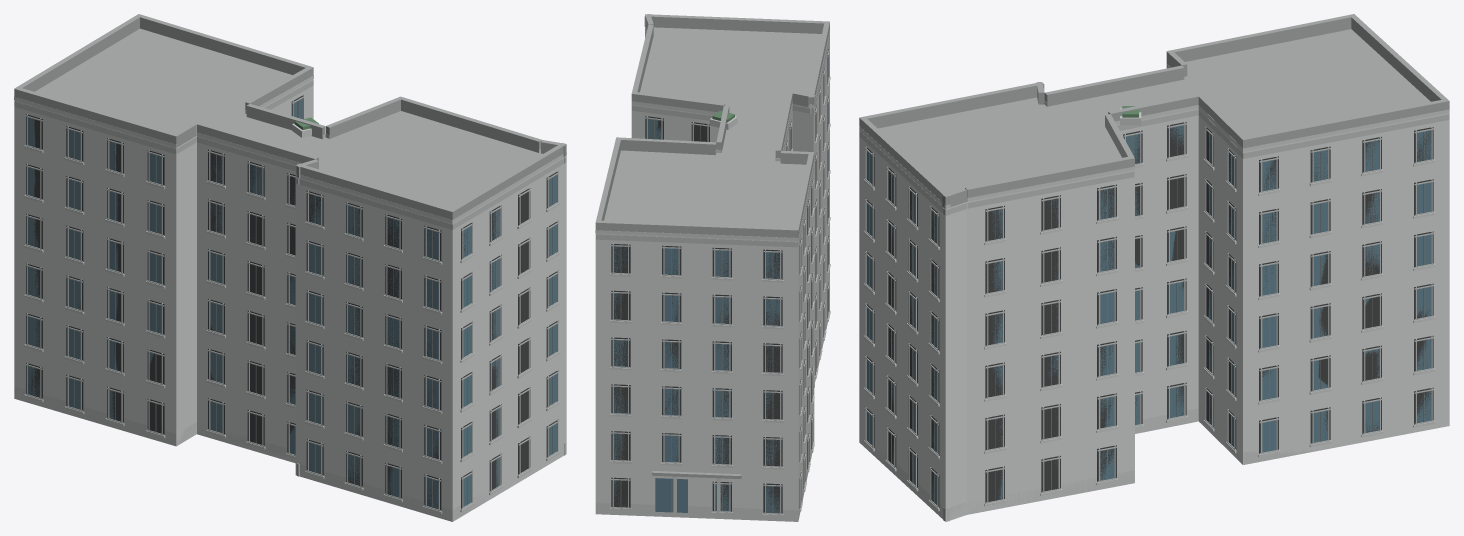
Rendered from cop_escritorio_clinica_03__way_1041990734.fbx.
3 views of the same model, side by side, from view 1: azimuth 30°, elevation 25°; view 2: azimuth 150°, elevation 25°; view 3: azimuth 270°, elevation 25° (orthographic). The views are drawn at different scales.
Parts seen in each view (by area): view 1: cop_escritorio_clinica_03__way_1041990734_wall, cop_escritorio_clinica_03__way_1041990734_roof, cop_escritorio_clinica_03__way_1041990734_shadow, cop_escritorio_clinica_03__way_1041990734_glass, cop_escritorio_clinica_03__way_1041990734_trim, cop_escritorio_clinica_03__way_1041990734_stone, cop_escritorio_clinica_03__way_1041990734_metal; view 2: cop_escritorio_clinica_03__way_1041990734_wall, cop_escritorio_clinica_03__way_1041990734_roof, cop_escritorio_clinica_03__way_1041990734_shadow, cop_escritorio_clinica_03__way_1041990734_trim, cop_escritorio_clinica_03__way_1041990734_glass, cop_escritorio_clinica_03__way_1041990734_stone, cop_escritorio_clinica_03__way_1041990734_metal; view 3: cop_escritorio_clinica_03__way_1041990734_wall, cop_escritorio_clinica_03__way_1041990734_roof, cop_escritorio_clinica_03__way_1041990734_shadow, cop_escritorio_clinica_03__way_1041990734_trim, cop_escritorio_clinica_03__way_1041990734_glass, cop_escritorio_clinica_03__way_1041990734_stone, cop_escritorio_clinica_03__way_1041990734_metal.
Part boxes in pixels (bbox=[...]): cop_escritorio_clinica_03__way_1041990734_wall: bbox=[14, 79, 566, 521]; cop_escritorio_clinica_03__way_1041990734_roof: bbox=[14, 14, 566, 219]; cop_escritorio_clinica_03__way_1041990734_shadow: bbox=[26, 95, 558, 510]; cop_escritorio_clinica_03__way_1041990734_glass: bbox=[28, 98, 557, 508]; cop_escritorio_clinica_03__way_1041990734_trim: bbox=[14, 80, 566, 511]; cop_escritorio_clinica_03__way_1041990734_stone: bbox=[14, 75, 566, 521]; cop_escritorio_clinica_03__way_1041990734_metal: bbox=[33, 101, 553, 507]; cop_escritorio_clinica_03__way_1041990734_wall: bbox=[595, 27, 829, 521]; cop_escritorio_clinica_03__way_1041990734_roof: bbox=[595, 14, 829, 478]; cop_escritorio_clinica_03__way_1041990734_shadow: bbox=[611, 47, 828, 513]; cop_escritorio_clinica_03__way_1041990734_trim: bbox=[596, 27, 829, 514]; cop_escritorio_clinica_03__way_1041990734_glass: bbox=[614, 54, 828, 513]; cop_escritorio_clinica_03__way_1041990734_stone: bbox=[595, 30, 830, 521]; cop_escritorio_clinica_03__way_1041990734_metal: bbox=[620, 56, 828, 512]; cop_escritorio_clinica_03__way_1041990734_wall: bbox=[859, 63, 1449, 521]; cop_escritorio_clinica_03__way_1041990734_roof: bbox=[859, 14, 1449, 208]; cop_escritorio_clinica_03__way_1041990734_shadow: bbox=[865, 122, 1433, 507]; cop_escritorio_clinica_03__way_1041990734_trim: bbox=[859, 65, 1449, 508]; cop_escritorio_clinica_03__way_1041990734_glass: bbox=[866, 125, 1431, 505]; cop_escritorio_clinica_03__way_1041990734_stone: bbox=[859, 101, 1449, 521]; cop_escritorio_clinica_03__way_1041990734_metal: bbox=[869, 126, 1424, 503].
Size of the model in its own units: 2258 by 1869 by 3077.
